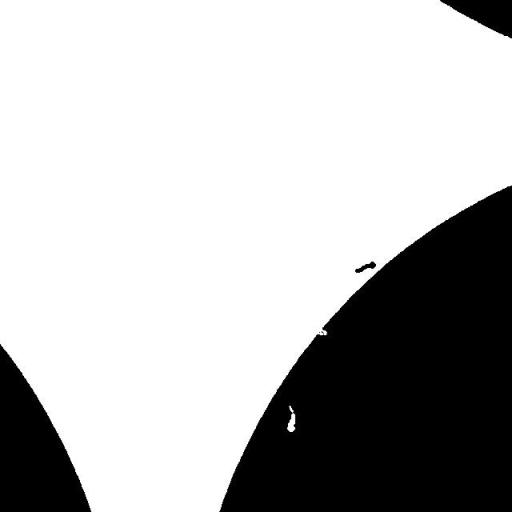copper: (347, 254, 383, 280)
mousebite: (308, 321, 334, 342)
pin-hole: (280, 398, 302, 439)
